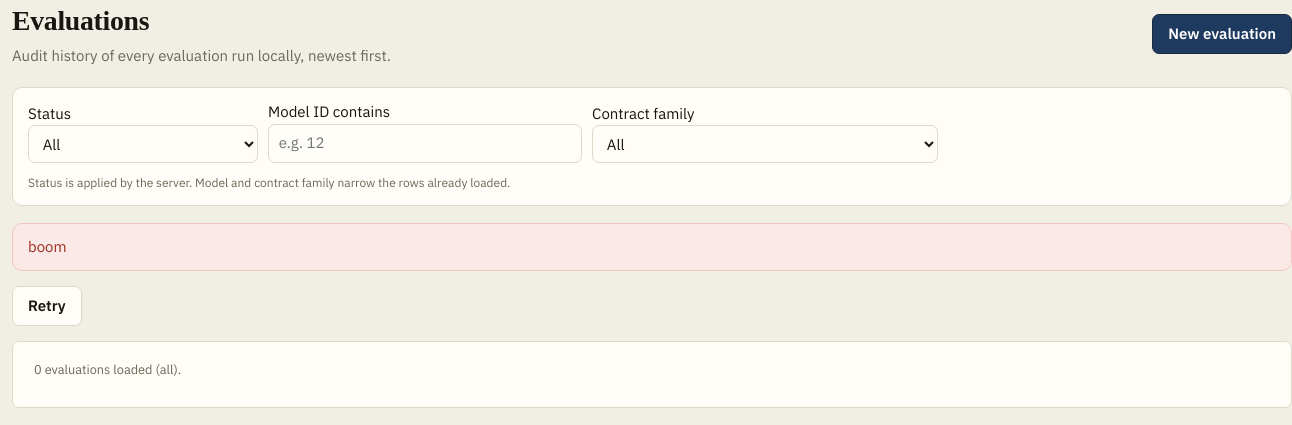
Scenario: error shows retry that refetches
Click the button "Retry".
click(47, 306)  # box [12, 286, 82, 326]
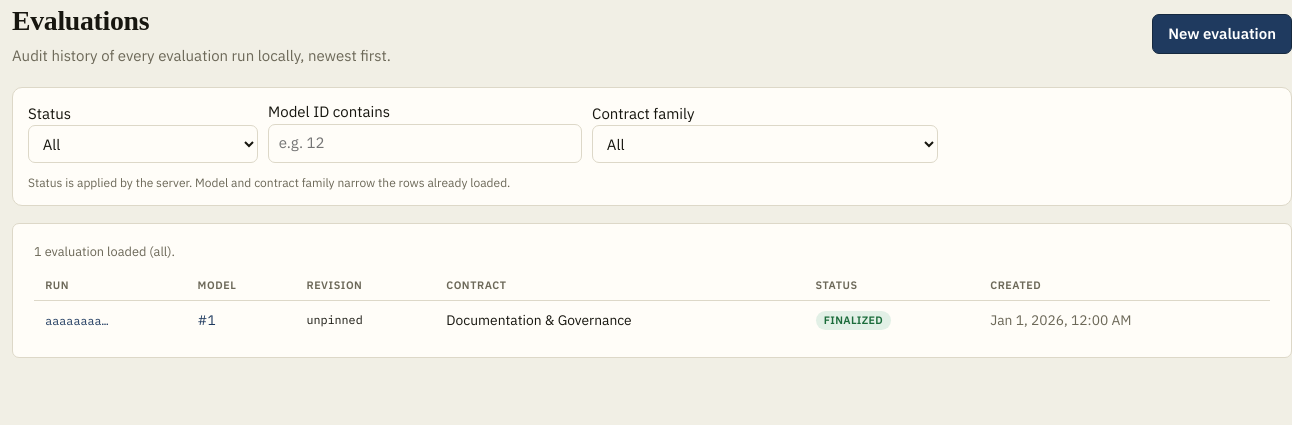
Expected: the link named "Evaluation aaaaaaaa" is shown, [45, 313, 109, 328]
